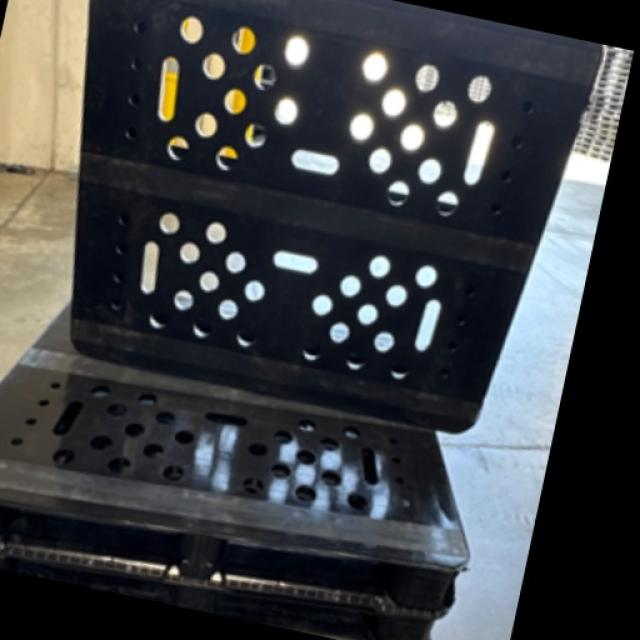igps: (61, 0, 614, 439), (0, 294, 475, 638)
